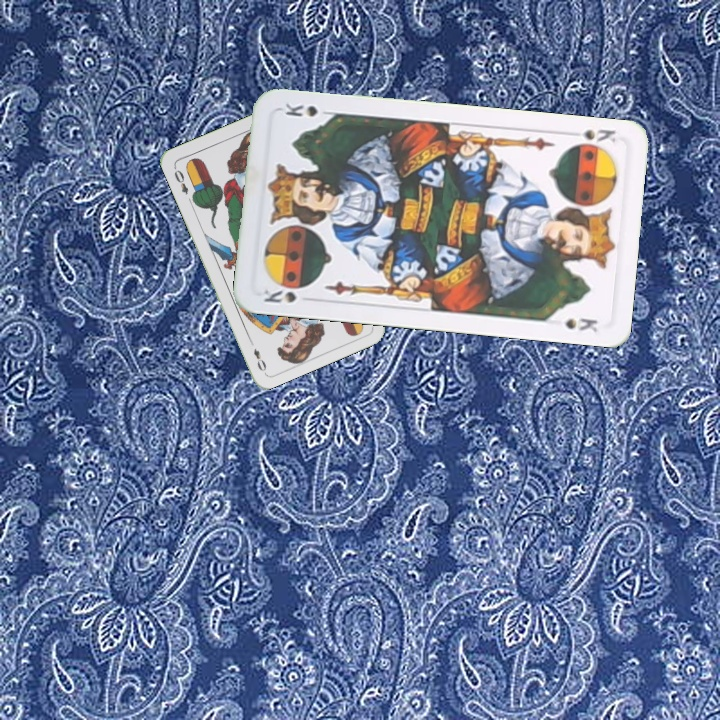EO: (170, 163, 191, 197)
SK: (564, 125, 619, 152), (260, 284, 316, 306)
